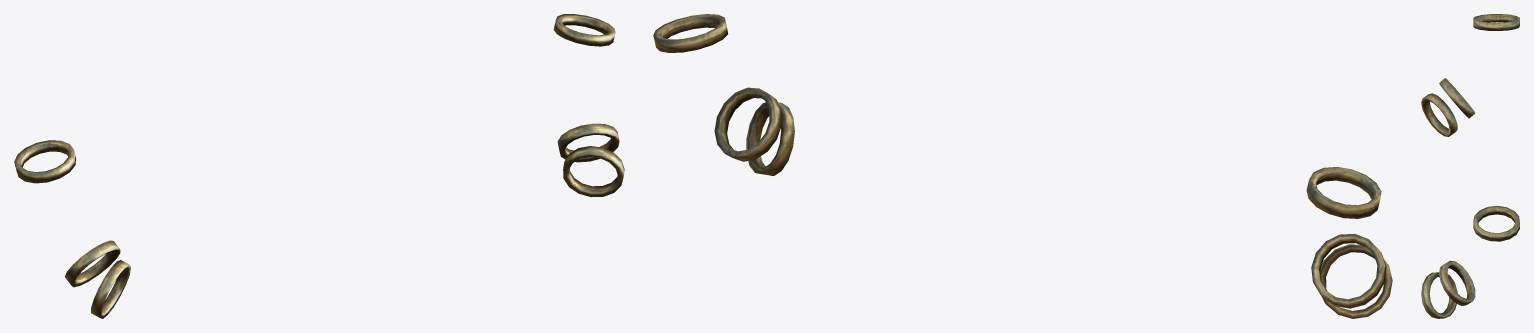
File: sm_human_accessories_03.gltf
3 views of the same model, side by side, from view 1: azimuth 30°, elevation 25°; view 2: azimuth 150°, elevation 25°; view 3: azimuth 270°, elevation 25° (orthographic). The views are drawn at different scales.
Parts seen in each view (by area): view 1: sm_human_accessories_03; view 2: sm_human_accessories_03; view 3: sm_human_accessories_03.
Part boxes in pixels (box(x1,y1,x2,y2)): sm_human_accessories_03: box(14, 14, 624, 318); sm_human_accessories_03: box(653, 14, 1392, 318); sm_human_accessories_03: box(1421, 14, 1519, 318).
Size of the model in its own units: 20.8 by 4.92 by 3.93.
Materials: 1 (1 with a texture image).
